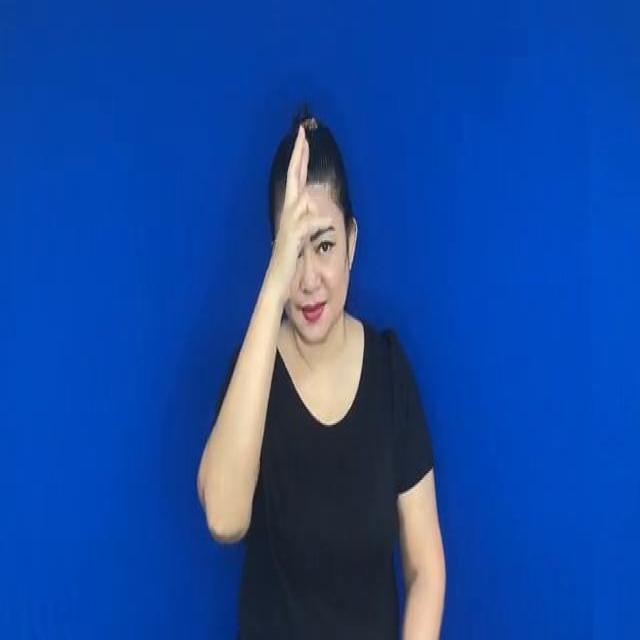chicken: (269, 114, 314, 280)
